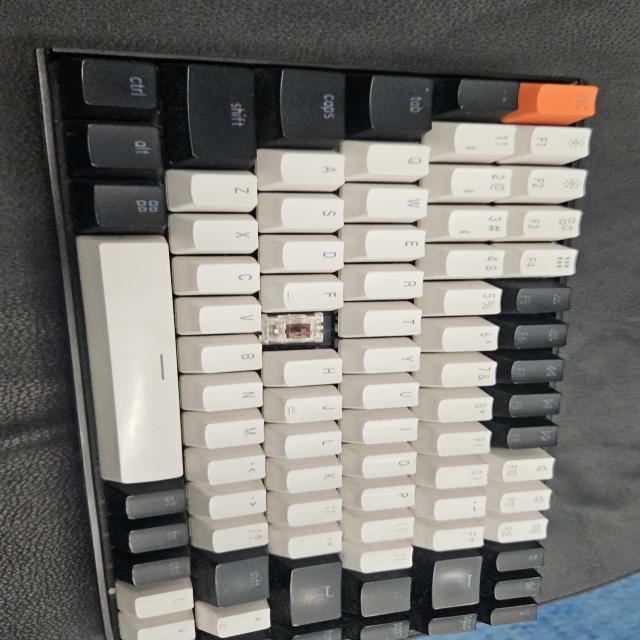C: (267, 316, 331, 345)
